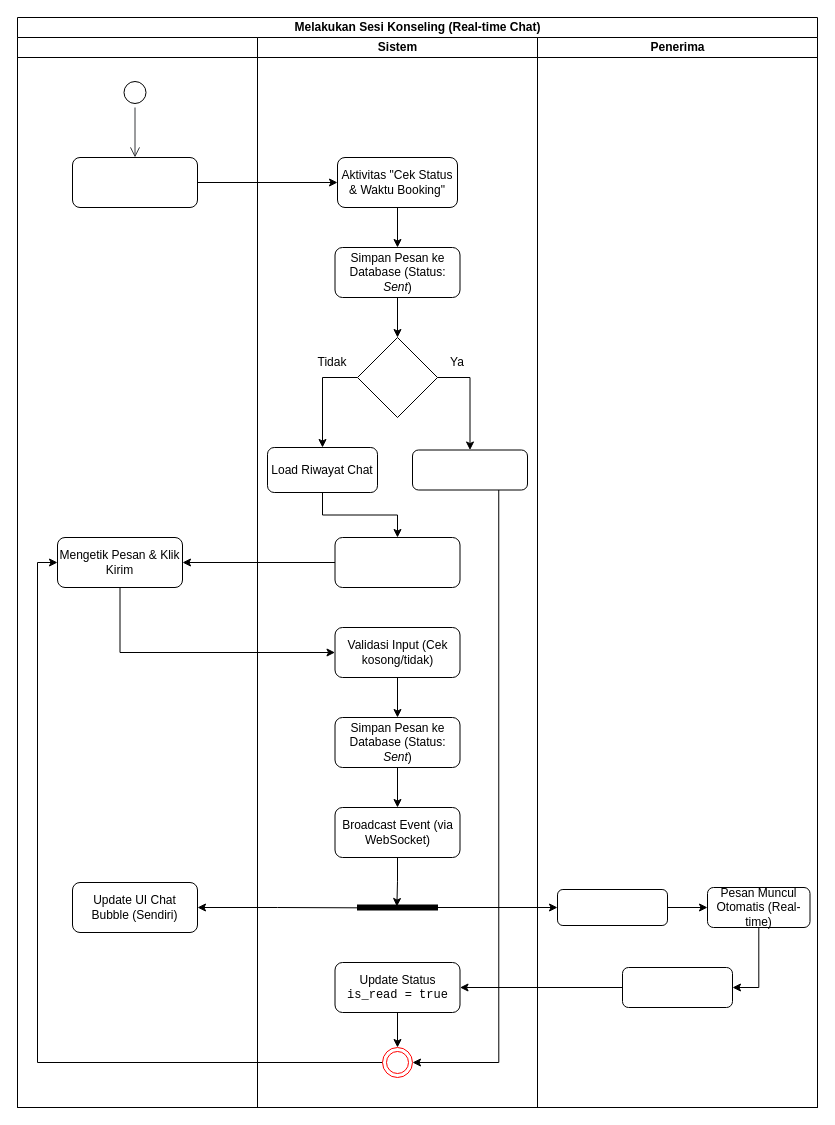
Image size: 835x1125. Some labels were removed from this diagram. Each missing label, with the box of its shape:
Join Channel WebSocket (Private): (334, 536, 460, 588)
Membaca Pesan: (622, 966, 732, 1008)
Membuka Ruang Chat & Mengetik Pesan: (72, 156, 198, 208)
Menerima Event (Listen): (556, 888, 668, 926)
Pengirim: (16, 36, 258, 1108)
Sesi Valid/Aktif?": (356, 336, 438, 418)
Tampilkan Pesan Error/Sesi Berakhir: (412, 449, 528, 490)
